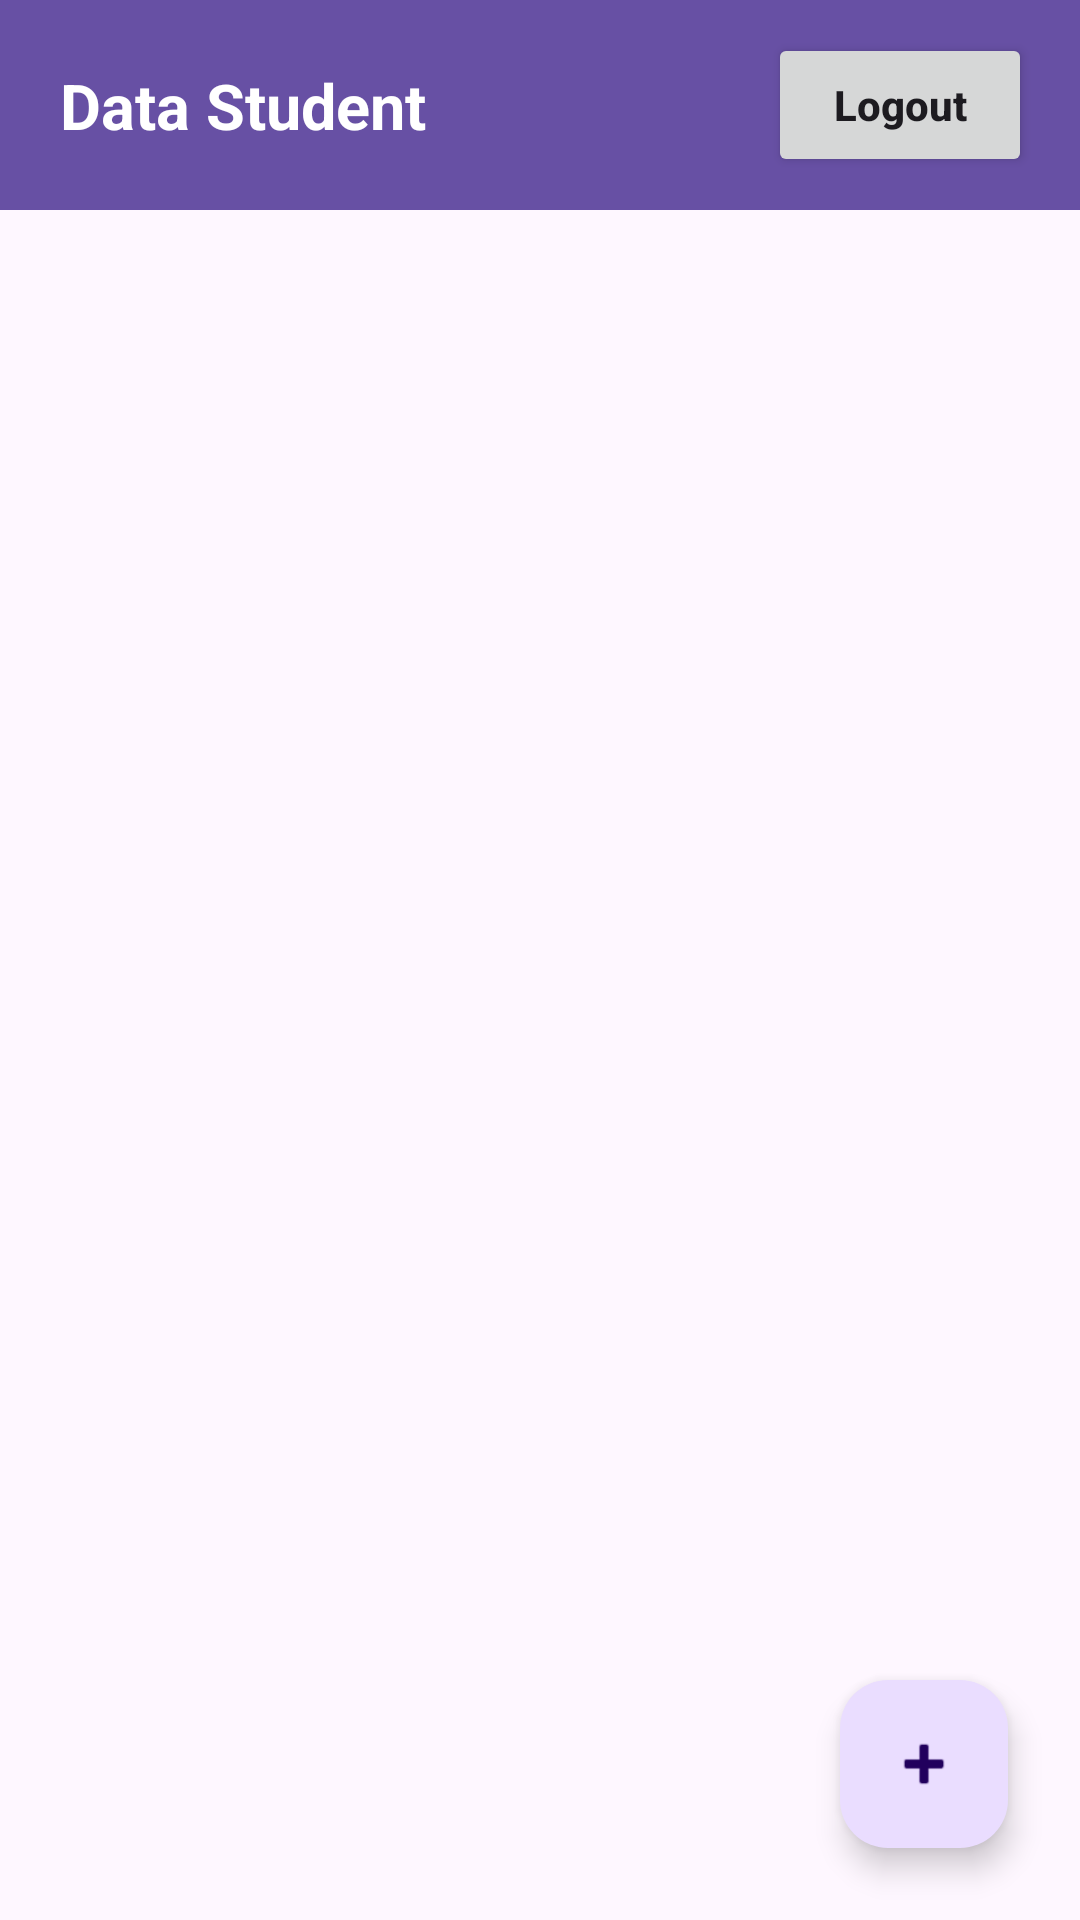

Icons on this 1080 x 1920 Android screen, each with its box as (x1, y1, x2, y2):
Tambah Student: (840, 1680, 1008, 1848)
